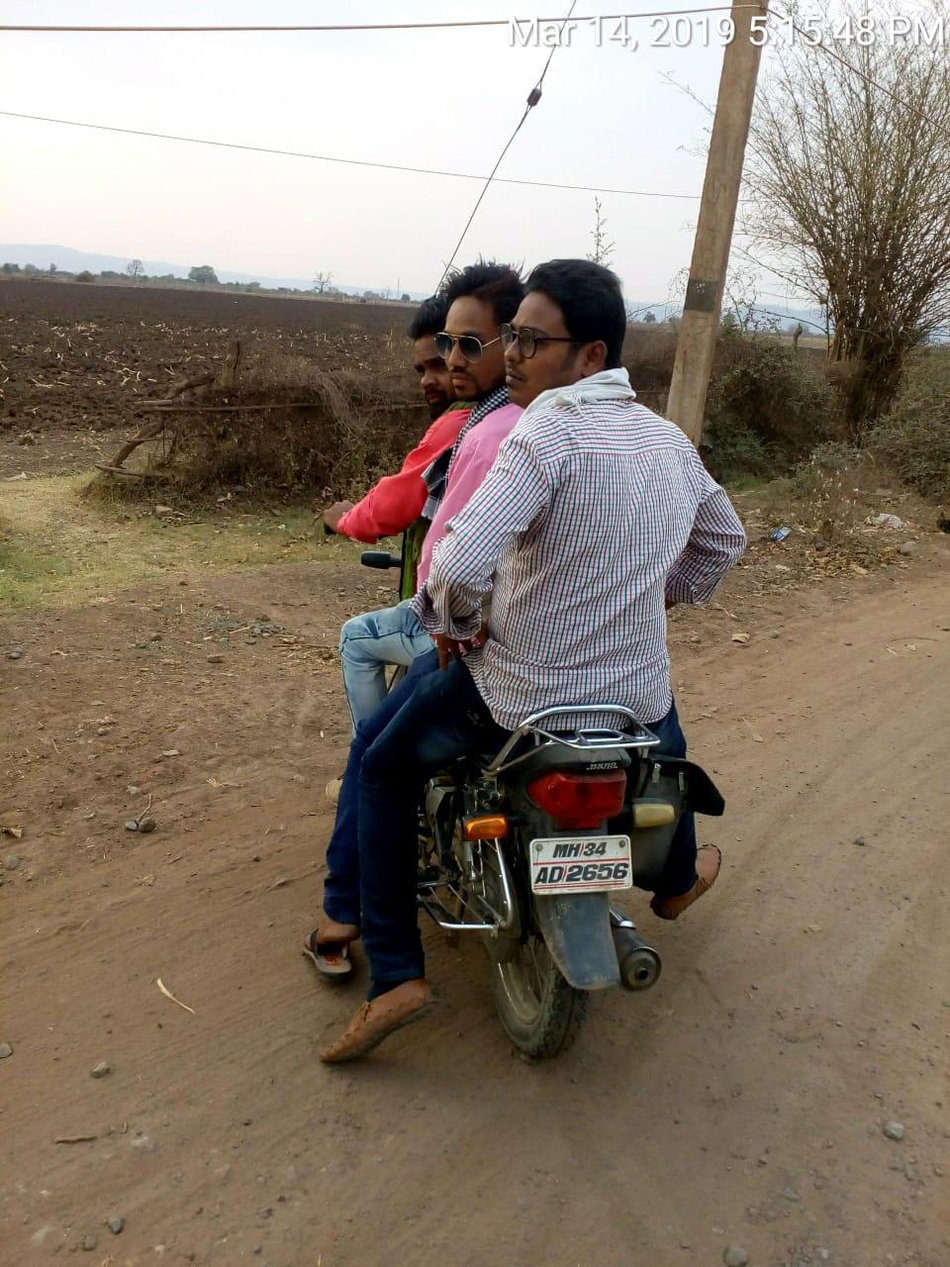plate: (522, 822, 641, 910)
